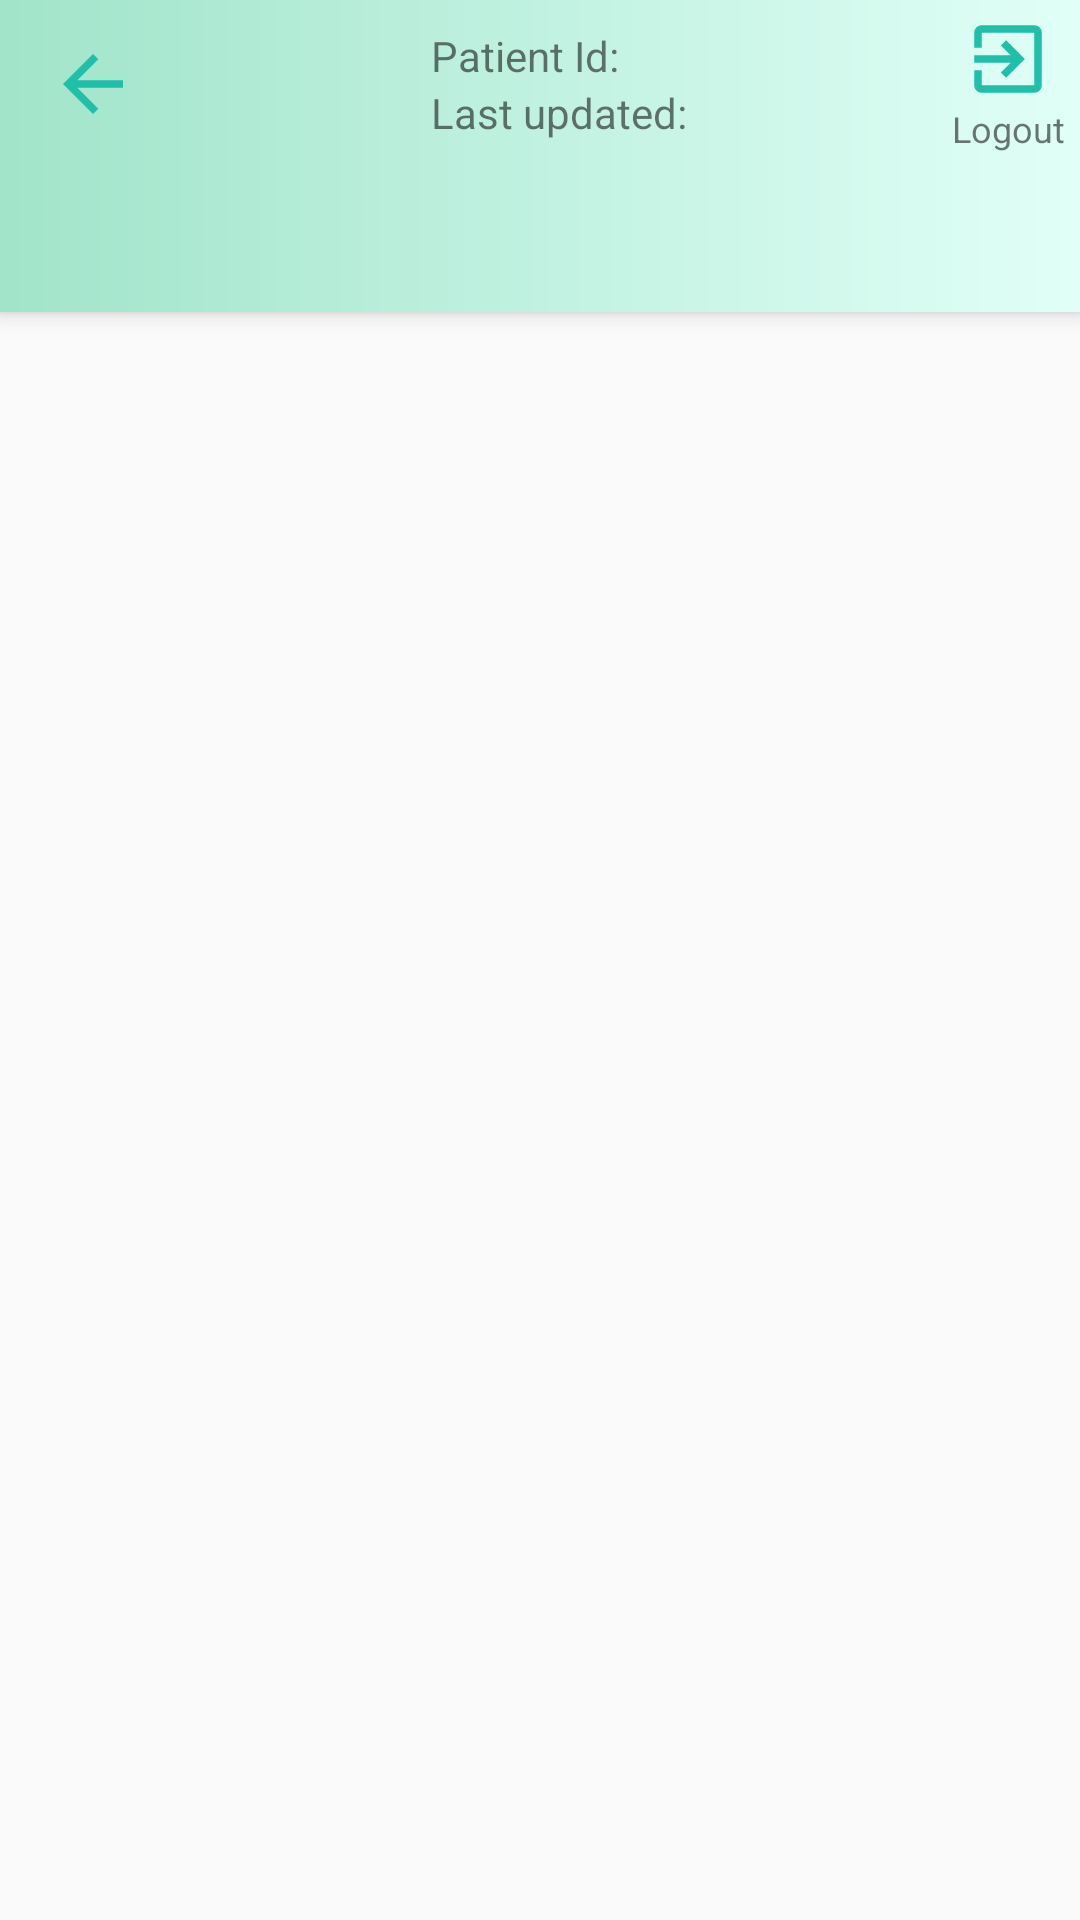

Icon click points for this 1080x1920 phone screenshot, format (x,y):
back arrow: (93,84)
